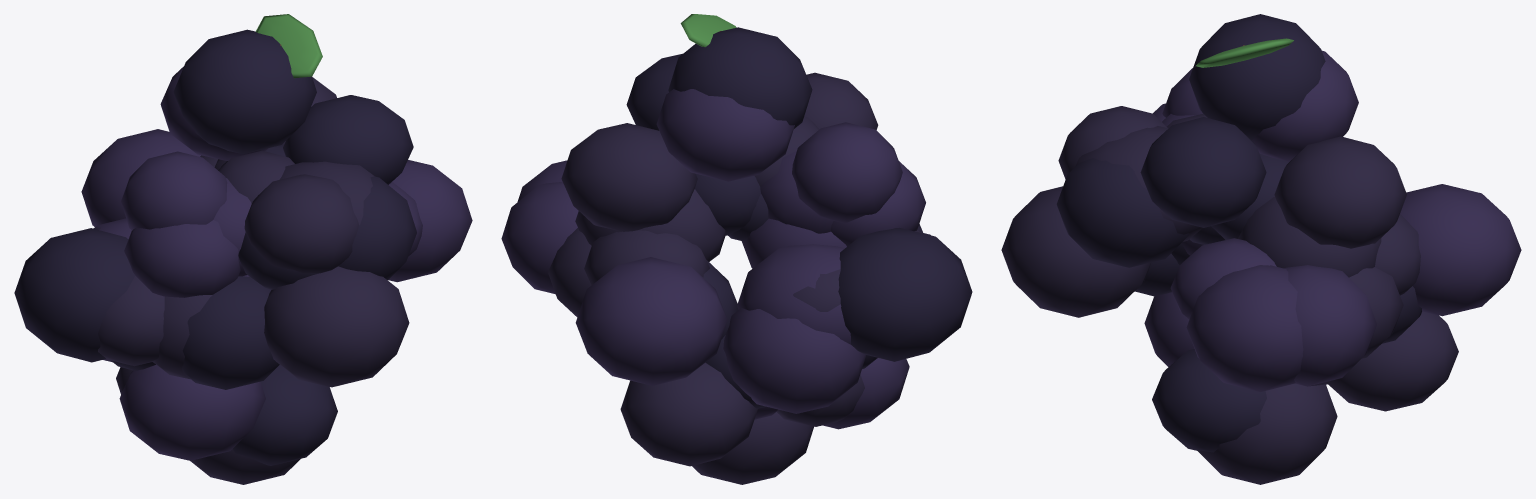
Rendered from blackberry.glb.
3 views of the same model, side by side, from view 1: azimuth 30°, elevation 25°; view 2: azimuth 150°, elevation 25°; view 3: azimuth 270°, elevation 25° (orthographic). The views are drawn at different scales.
Parts seen in each view (by area): view 1: blackberry; view 2: blackberry; view 3: blackberry.
Part boxes in pixels (<box>): blackberry: <box>14,14,472,484</box>; blackberry: <box>501,14,972,484</box>; blackberry: <box>1001,14,1521,484</box>.
Size of the model in its own units: 1 by 0.9736 by 1.
